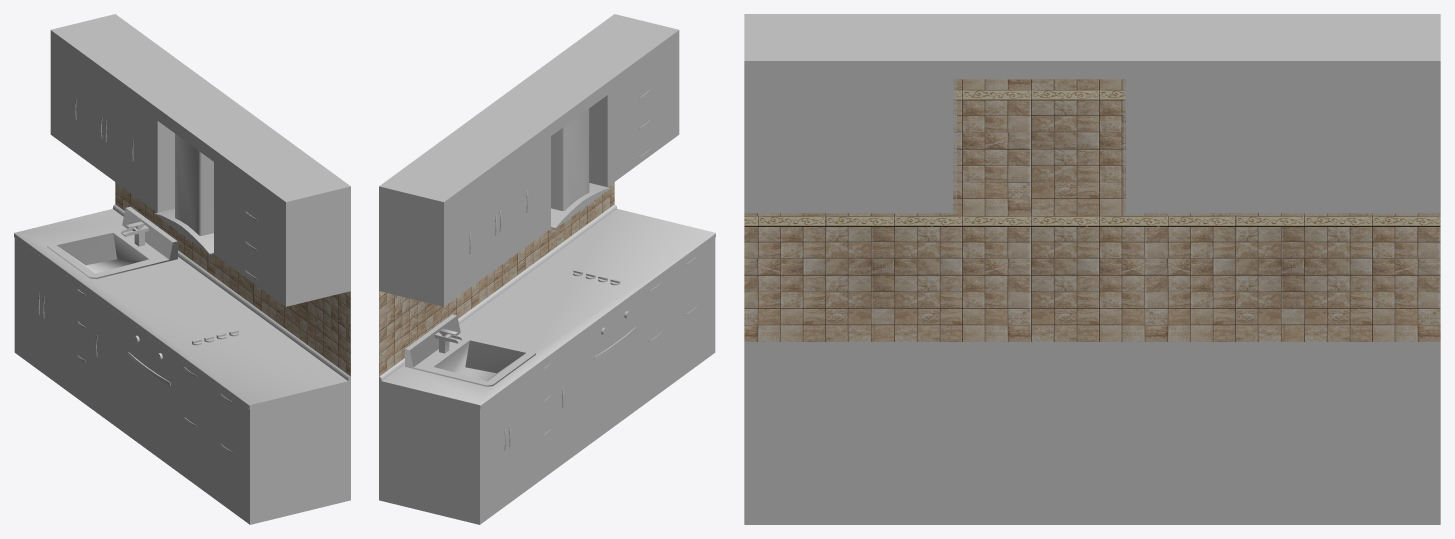
File: Kitchen_Set.FBX
The picture shows the model from 3 angles, left to right: view 1: azimuth 30°, elevation 25°; view 2: azimuth 150°, elevation 25°; view 3: azimuth 270°, elevation 25°; orthographic projection. The views are drawn at different scales.
Parts seen in each view (by area): view 1: Kitchen_Set, Kitchen_Tile; view 2: Kitchen_Set, Kitchen_Tile; view 3: Kitchen_Set, Kitchen_Tile.
Boxes of the visible parts, x1=… form: Kitchen_Set: x1=14, y1=14, x2=350, y2=524; Kitchen_Tile: x1=115, y1=182, x2=350, y2=376; Kitchen_Set: x1=379, y1=14, x2=715, y2=524; Kitchen_Tile: x1=379, y1=182, x2=614, y2=376; Kitchen_Set: x1=744, y1=14, x2=1440, y2=524; Kitchen_Tile: x1=744, y1=79, x2=1440, y2=341.
Bounding box in the file's own units: 40.77 × 118 × 161.
